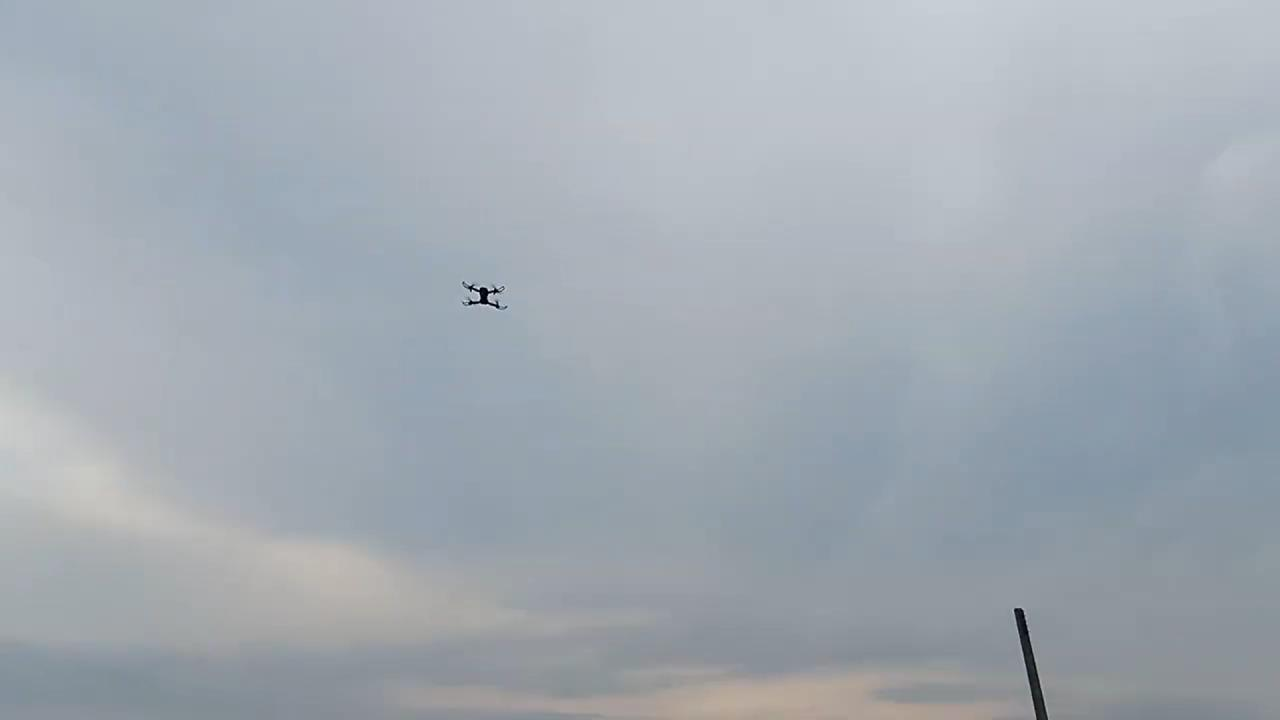Drone: (454, 272, 517, 320)
